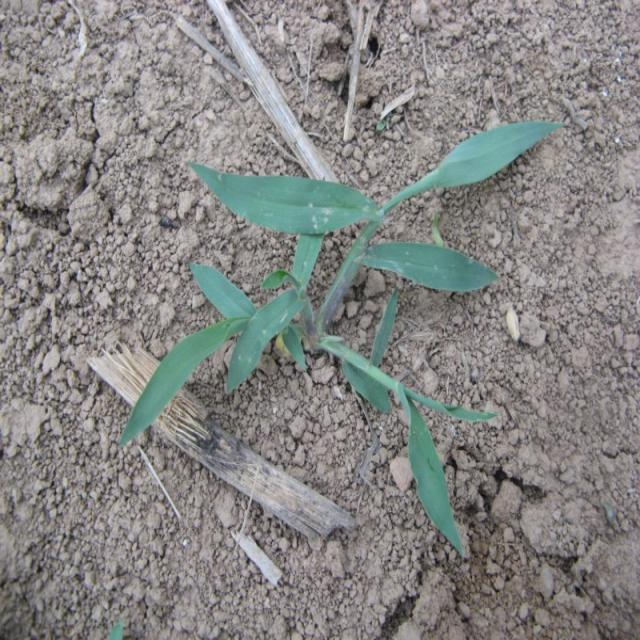bg: (117, 117, 566, 555)
